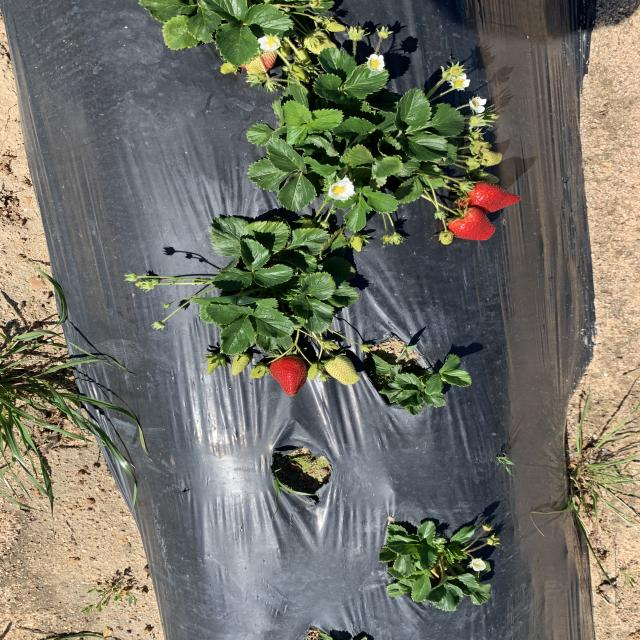unripe: (453, 179, 521, 215), (446, 206, 496, 242), (267, 356, 307, 396)
